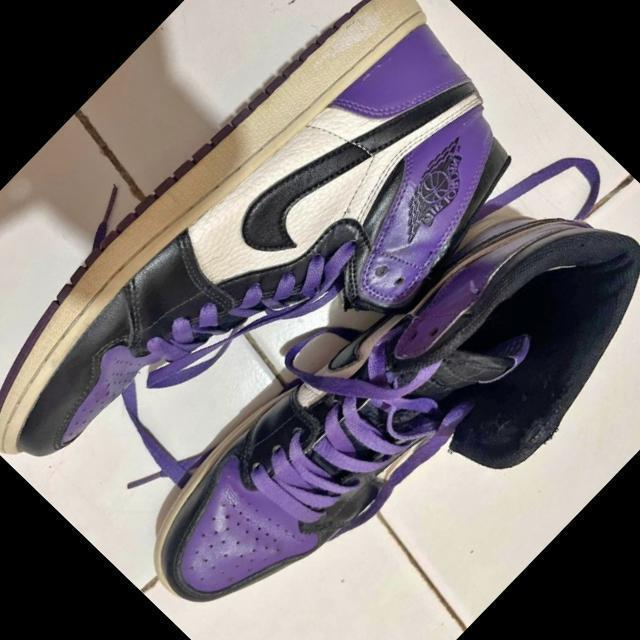nike original jordan 1: (0, 0, 558, 587), (121, 127, 640, 640)
